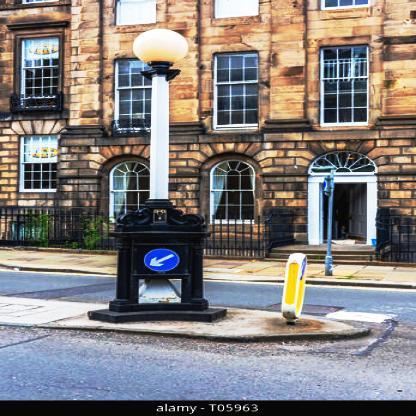Keep left: (138, 245, 184, 274)
